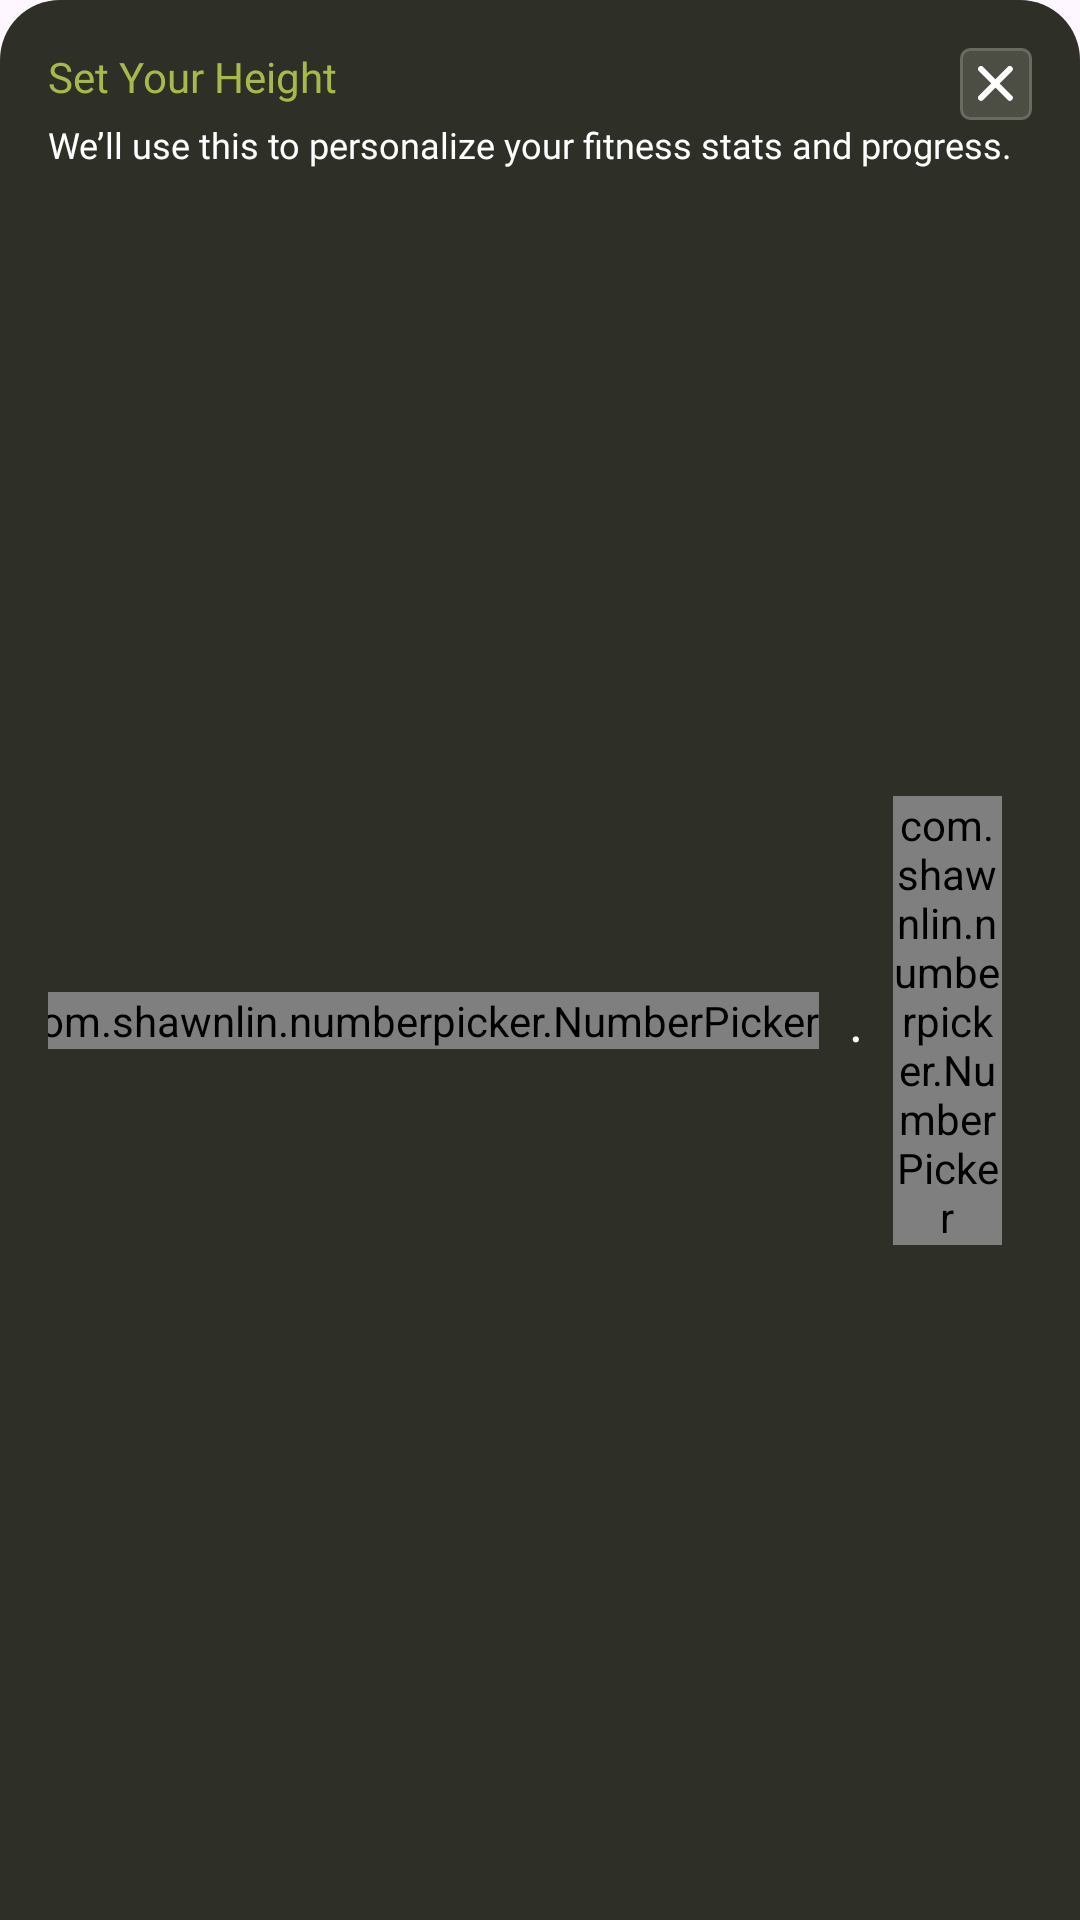

Point at icon controls on the screen. Image size 1080px x 1920px, points as point (x, y).
cancel: point (995, 83)
